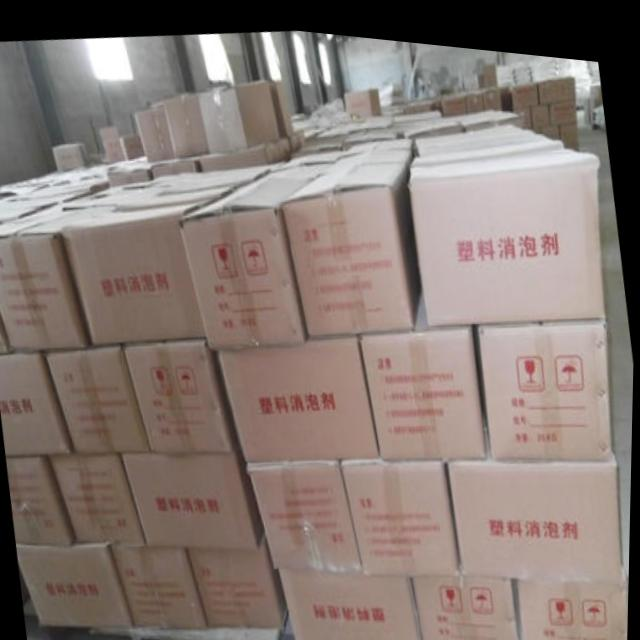box: (412, 132, 610, 320), (182, 153, 340, 348), (284, 140, 423, 335), (360, 277, 492, 453), (449, 447, 624, 570), (62, 200, 212, 343), (220, 327, 384, 456), (476, 304, 616, 450), (0, 204, 114, 353), (344, 449, 469, 566), (126, 333, 245, 449), (124, 449, 265, 546), (248, 454, 367, 566), (47, 343, 155, 454), (281, 562, 424, 640), (18, 542, 136, 628), (188, 531, 294, 623), (47, 453, 148, 544), (515, 568, 631, 640), (412, 566, 522, 640), (0, 349, 75, 455), (111, 547, 210, 624), (7, 453, 80, 543), (198, 74, 282, 152), (35, 167, 176, 208), (160, 83, 209, 156), (117, 179, 242, 204), (0, 190, 91, 221), (161, 165, 273, 187), (133, 98, 172, 154), (153, 149, 204, 177), (52, 140, 93, 173), (108, 154, 153, 183), (106, 128, 147, 159), (537, 67, 578, 94), (347, 82, 384, 111), (507, 71, 542, 101), (547, 94, 581, 116), (442, 85, 468, 107), (529, 94, 552, 117), (483, 78, 503, 104), (469, 82, 485, 104)
